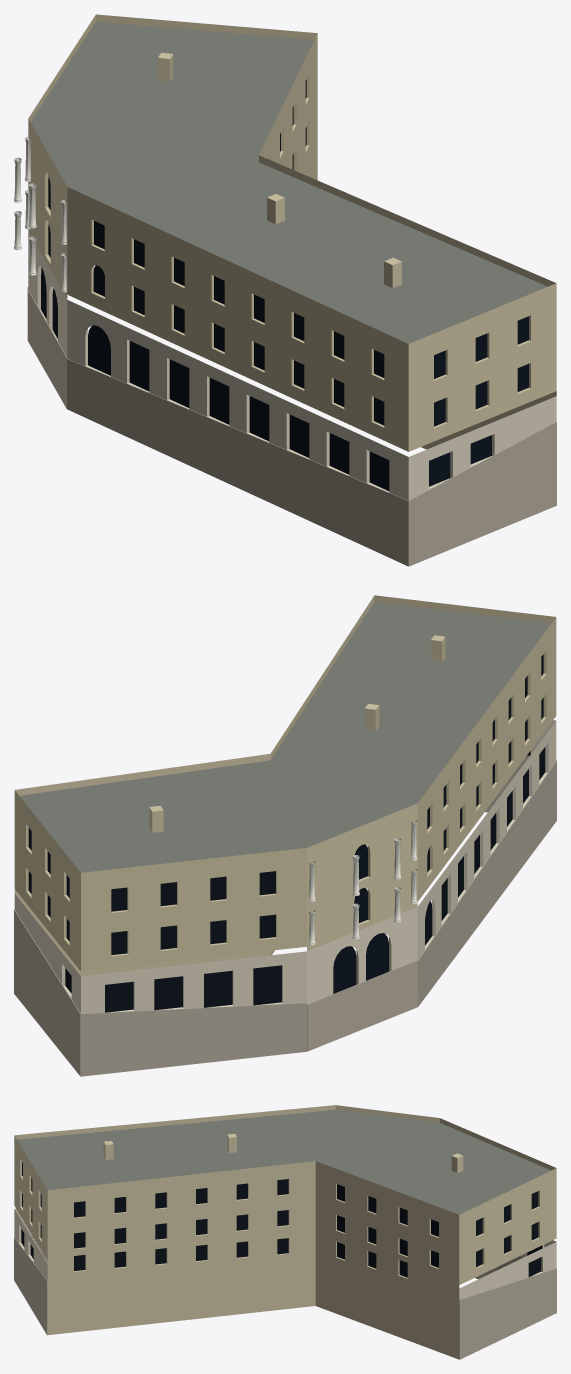
File: bmorskaya35.lod.glb
3 views of the same model, one above another, from view 1: azimuth 30°, elevation 25°; view 2: azimuth 150°, elevation 25°; view 3: azimuth 270°, elevation 25° (orthographic). The views are drawn at different scales.
Visible parts, largest first — view 1: bmorskaya35_roof, bmorskaya35_wall, bmorskaya35_stone, bmorskaya35_wall2, bmorskaya35_glass, bmorskaya35_trim_s; view 2: bmorskaya35_roof, bmorskaya35_wall, bmorskaya35_stone, bmorskaya35_wall2, bmorskaya35_glass, bmorskaya35_trim_s; view 3: bmorskaya35_wall, bmorskaya35_roof, bmorskaya35_stone, bmorskaya35_glass, bmorskaya35_wall2.
Boxes of the visible parts, <box> form: bmorskaya35_roof: <box>30,21,547,343</box>; bmorskaya35_wall: <box>28,14,556,451</box>; bmorskaya35_stone: <box>27,287,556,566</box>; bmorskaya35_wall2: <box>28,232,556,500</box>; bmorskaya35_glass: <box>41,79,528,490</box>; bmorskaya35_trim_s: <box>14,137,66,292</box>; bmorskaya35_roof: <box>19,602,551,872</box>; bmorskaya35_wall: <box>14,595,556,976</box>; bmorskaya35_stone: <box>14,755,556,1076</box>; bmorskaya35_wall2: <box>14,720,556,1013</box>; bmorskaya35_glass: <box>28,654,545,1012</box>; bmorskaya35_trim_s: <box>309,820,417,945</box>; bmorskaya35_wall: <box>14,1105,556,1359</box>; bmorskaya35_roof: <box>17,1109,550,1214</box>; bmorskaya35_stone: <box>14,1236,556,1359</box>; bmorskaya35_glass: <box>21,1162,542,1277</box>; bmorskaya35_wall2: <box>14,1208,556,1299</box>.
Bounding box in the file's own units: 25.86 × 16.55 × 52.47.
